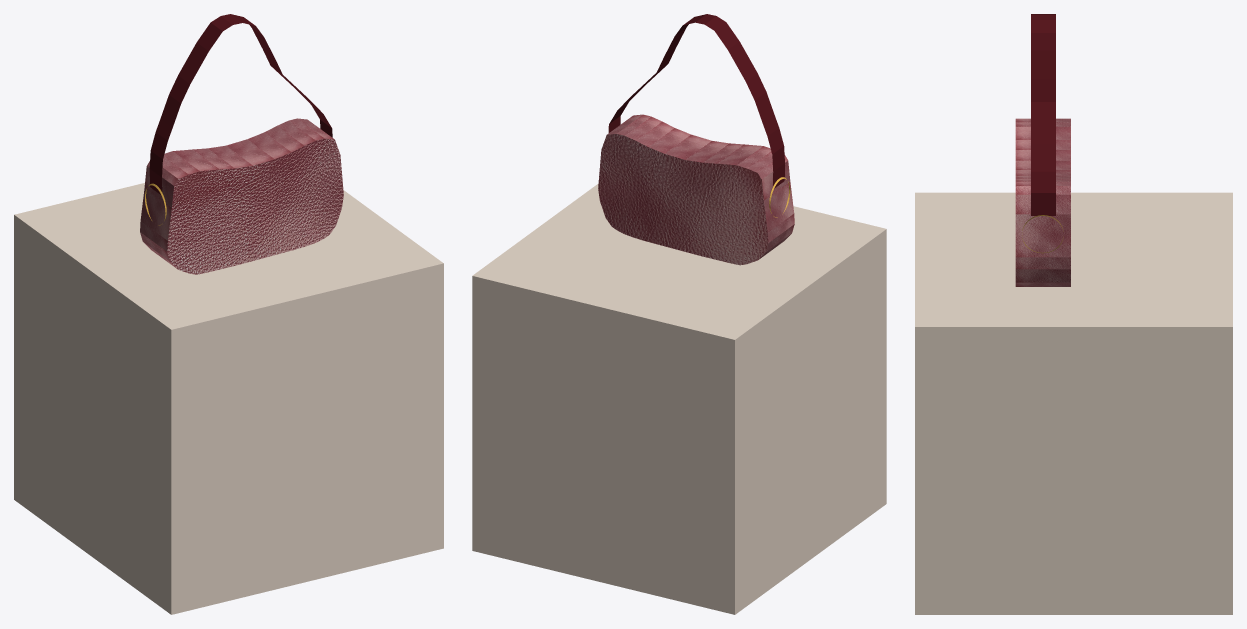
Rendered from modelnowall2.glb.
The picture shows the model from 3 angles, left to right: view 1: azimuth 30°, elevation 25°; view 2: azimuth 150°, elevation 25°; view 3: azimuth 270°, elevation 25°; orthographic projection. The views are drawn at different scales.
Parts seen in each view (by area): view 1: Cube.001, Plane.001; view 2: Cube.001, Plane.001; view 3: Cube.001, Plane.001.
Boxes of the visible parts, x1,y1,x2,y2 form: Cube.001: [14, 183, 443, 614]; Plane.001: [140, 14, 343, 274]; Cube.001: [472, 183, 886, 614]; Plane.001: [598, 14, 794, 265]; Cube.001: [915, 192, 1232, 614]; Plane.001: [1015, 14, 1070, 286].
Size of what is drawn, in the model's own units: 2.43 by 4.42 by 2.43.
5 materials, 1 textured.
